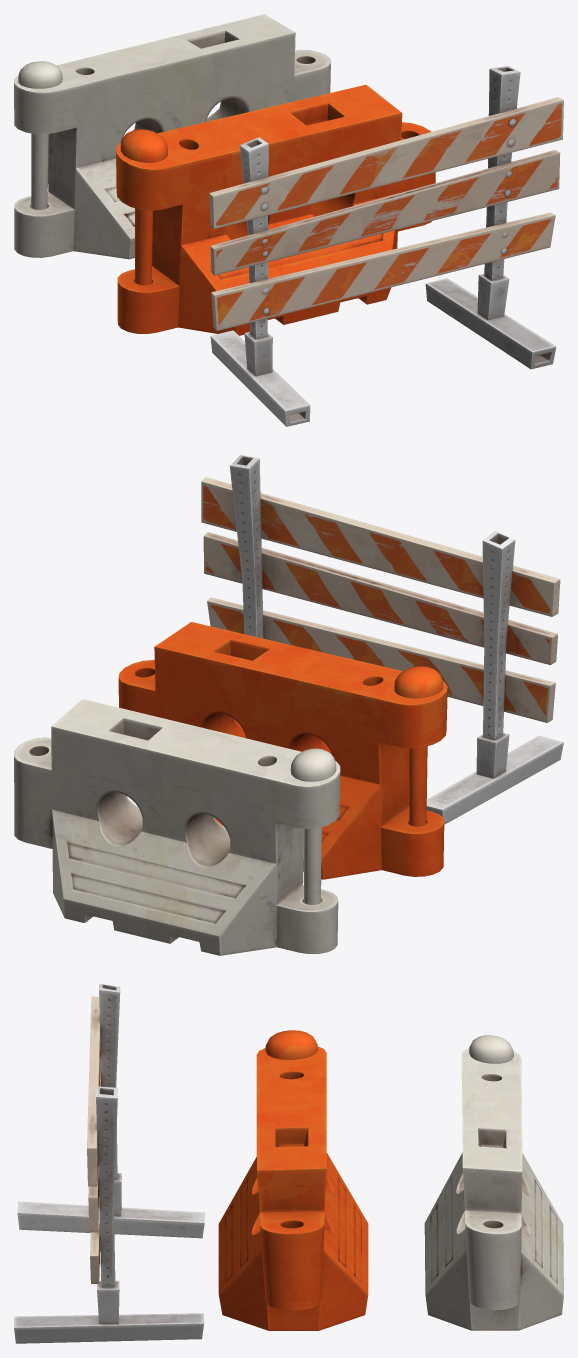
The model's file is traffic obstacles.fbx.
3 renders of one model, top to bottom at view 1: azimuth 30°, elevation 25°; view 2: azimuth 150°, elevation 25°; view 3: azimuth 270°, elevation 25°, orthographic. The views are drawn at different scales.
Visible parts, largest first — view 1: SM_TrafficBarrierB_TrafficBarrier_0, SM_BarricadeA_BarricadeA_0, SM_BarricadeB_BarricadeB_0; view 2: SM_BarricadeA_BarricadeA_0, SM_TrafficBarrierB_TrafficBarrier_0, SM_BarricadeB_BarricadeB_0; view 3: SM_BarricadeB_BarricadeB_0, SM_BarricadeA_BarricadeA_0, SM_TrafficBarrierB_TrafficBarrier_0.
Part boxes in pixels (left/top/right/bottom): SM_TrafficBarrierB_TrafficBarrier_0: left=209, top=66, right=563, bottom=426; SM_BarricadeA_BarricadeA_0: left=14, top=14, right=330, bottom=259; SM_BarricadeB_BarricadeB_0: left=116, top=84, right=435, bottom=335; SM_BarricadeA_BarricadeA_0: left=14, top=699, right=340, bottom=955; SM_TrafficBarrierB_TrafficBarrier_0: left=201, top=455, right=563, bottom=824; SM_BarricadeB_BarricadeB_0: left=118, top=622, right=447, bottom=879; SM_BarricadeB_BarricadeB_0: left=218, top=1030, right=368, bottom=1330; SM_BarricadeA_BarricadeA_0: left=424, top=1035, right=563, bottom=1330; SM_TrafficBarrierB_TrafficBarrier_0: left=14, top=984, right=205, bottom=1343.
Bounding box in the file's own units: 200 × 143 × 282.
3 materials, 3 textured.
